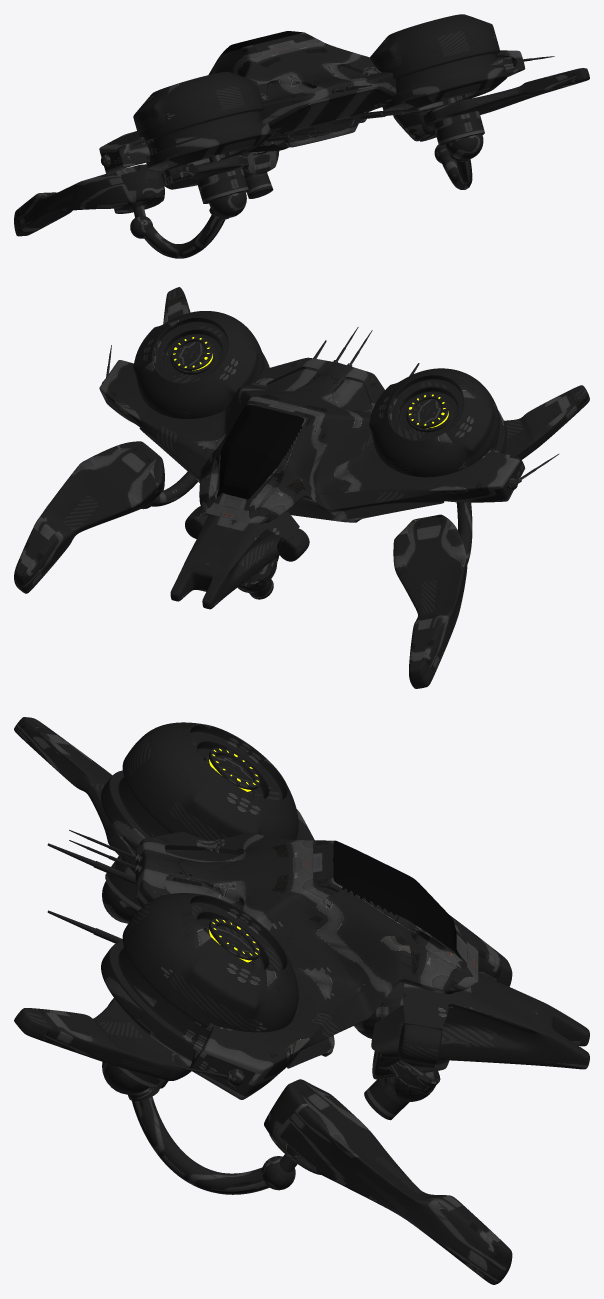
File: blue.glb
The picture shows the model from 3 angles, top to bottom: view 1: azimuth 30°, elevation 25°; view 2: azimuth 150°, elevation 25°; view 3: azimuth 270°, elevation 25°; orthographic projection. The views are drawn at different scales.
Visible parts, largest first — view 1: Cube.007, Cube.017, Cube.015, Cube.002, NurbsCurve.001, Cylinder.033, Cylinder.017, NurbsCurve, Sphere.003, Cube.008, Sphere.007, Cube.014 (+5 smaller); view 2: Cube.007, Cube.008, Cube.017, Cube.014, Cube.002, NurbsCurve.001, NurbsCurve, Cube.015; view 3: Cube.007, Cube.014, Cube.008, Cube.015, Cube.002, NurbsCurve, Cube.017, Cylinder.009, Sphere.001, Cylinder.003, Cylinder.033, Sphere.003 (+2 smaller).
Boxes of the visible parts, left/top/right/bottom form: Cube.007: left=99, top=14, right=525, bottom=174; Cube.017: left=14, top=164, right=164, bottom=236; Cube.015: left=423, top=68, right=589, bottom=126; Cube.002: left=161, top=155, right=248, bottom=189; NurbsCurve.001: left=143, top=215, right=225, bottom=258; Cylinder.033: left=197, top=154, right=248, bottom=203; Cylinder.017: left=433, top=97, right=484, bottom=146; NurbsCurve: left=441, top=155, right=472, bottom=189; Sphere.003: left=445, top=134, right=483, bottom=159; Cube.008: left=393, top=110, right=434, bottom=141; Sphere.007: left=209, top=191, right=246, bottom=217; Cube.014: left=238, top=150, right=279, bottom=174; Cube.007: left=99, top=311, right=525, bottom=523; Cube.008: left=14, top=441, right=164, bottom=593; Cube.017: left=393, top=514, right=467, bottom=688; Cube.014: left=170, top=506, right=309, bottom=609; Cube.002: left=504, top=385, right=589, bottom=459; NurbsCurve.001: left=456, top=502, right=472, bottom=564; NurbsCurve: left=151, top=471, right=198, bottom=506; Cube.015: left=163, top=287, right=190, bottom=323; Cube.007: left=101, top=722, right=478, bottom=1099; Cube.014: left=371, top=973, right=589, bottom=1079; Cube.008: left=264, top=1079, right=512, bottom=1284; Cube.015: left=14, top=998, right=191, bottom=1080; Cube.002: left=14, top=717, right=135, bottom=873; NurbsCurve: left=132, top=1096, right=269, bottom=1194; Cube.017: left=450, top=915, right=512, bottom=986; Cylinder.009: left=364, top=1079, right=409, bottom=1120; Sphere.001: left=354, top=982, right=404, bottom=1038; Cylinder.003: left=387, top=1060, right=440, bottom=1093; Cylinder.033: left=105, top=856, right=141, bottom=910; Sphere.003: left=102, top=1062, right=149, bottom=1094.
Size of the model in its own units: 3.22 by 1.5 by 2.42.
4 materials, 2 textured.
